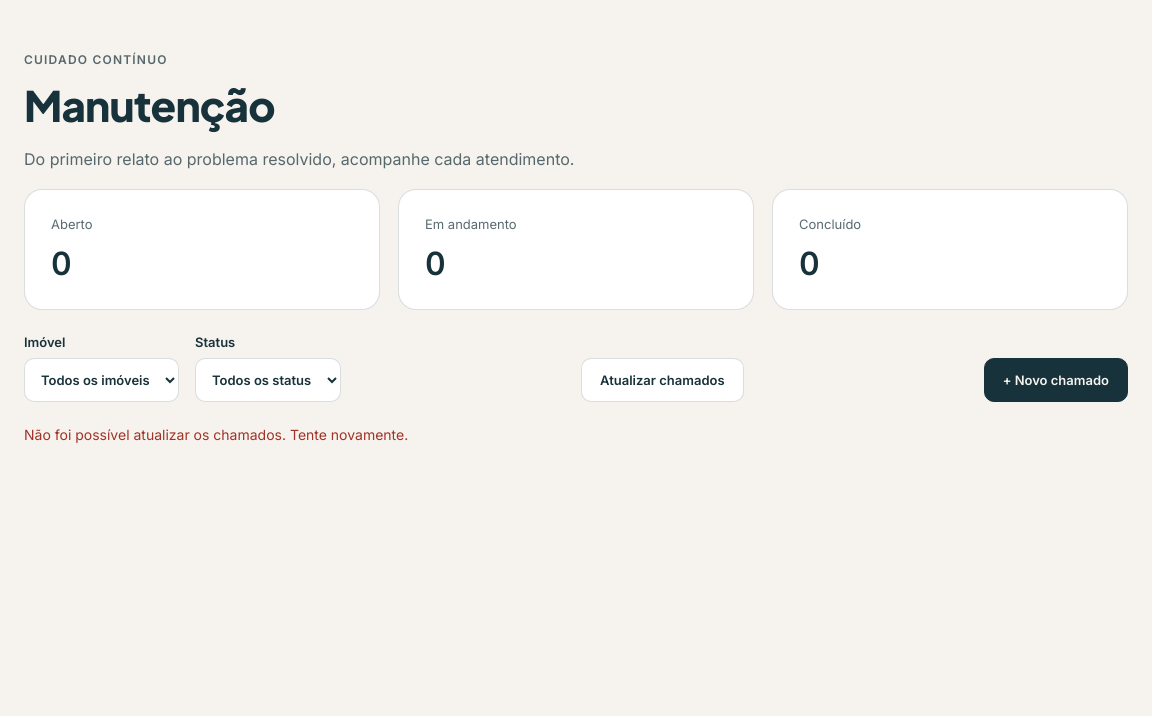
it: chamados do chat na gestão de manutenção › mostra falha de carregamento e permite tentar novamente
Expected: the message shows "Não foi possível atualizar", 24,426 -> 408,443
Click the button "Atualizar chamados" at (662, 380), box 581,358 -> 744,402
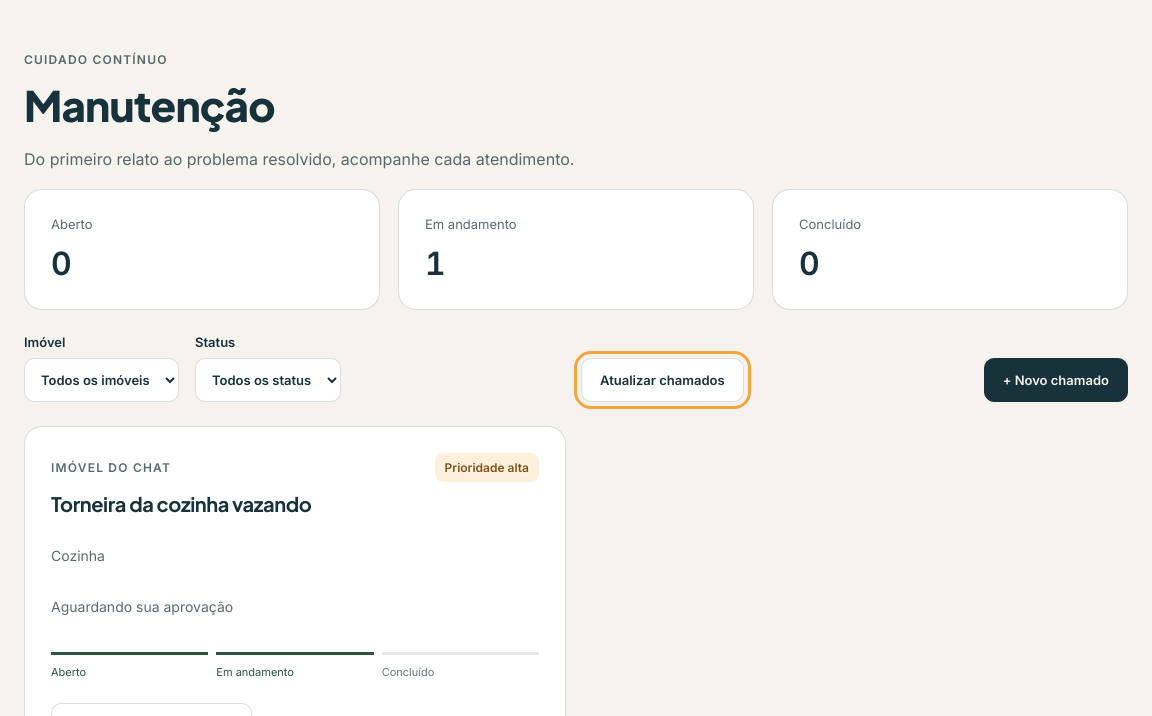
Expected: the heading "Torneira da cozinha vazando" is shown, 51,490 -> 311,518
Expected: the message "Não foi possível atualizar os chamados. Tente novamente." is gone
